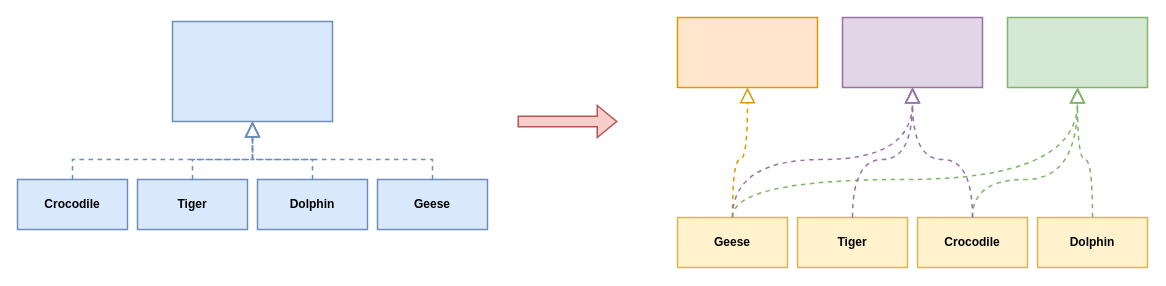
This 1166x286 diagram has some shape labels left out. Here are the shapes that lost their labels. From the top down, the box of each, then its label:
(171, 20, 333, 122): <<Interface>> IAnimal + fly() + run() + swim()
(676, 16, 818, 88): <<Interface>> IFlyable + fly()
(841, 16, 983, 88): <<Interface>> IRunnable + run()
(1006, 16, 1148, 88): <<Interface>> ISwimmable + swim()
